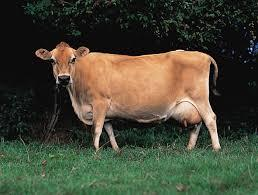cow: (36, 44, 221, 154)
